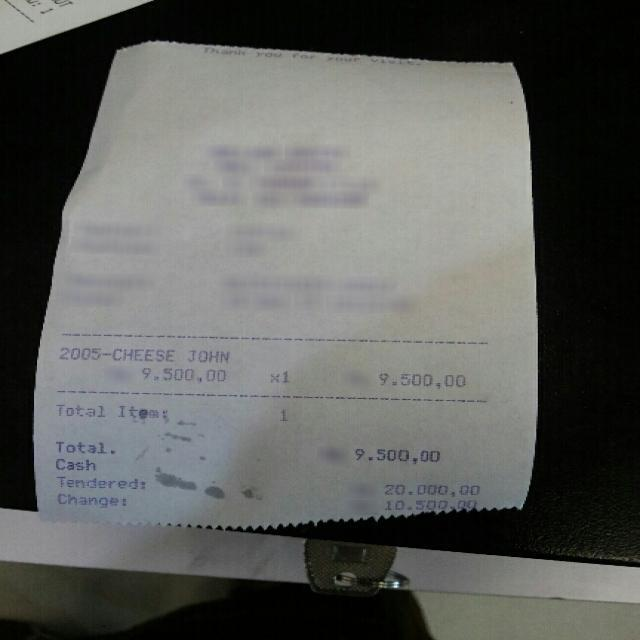kertas: (31, 37, 549, 537)
